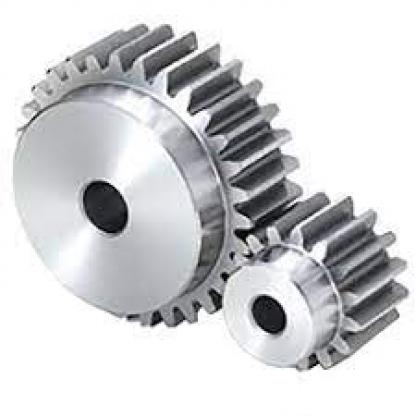FOD: (12, 14, 280, 345), (213, 184, 408, 376)
